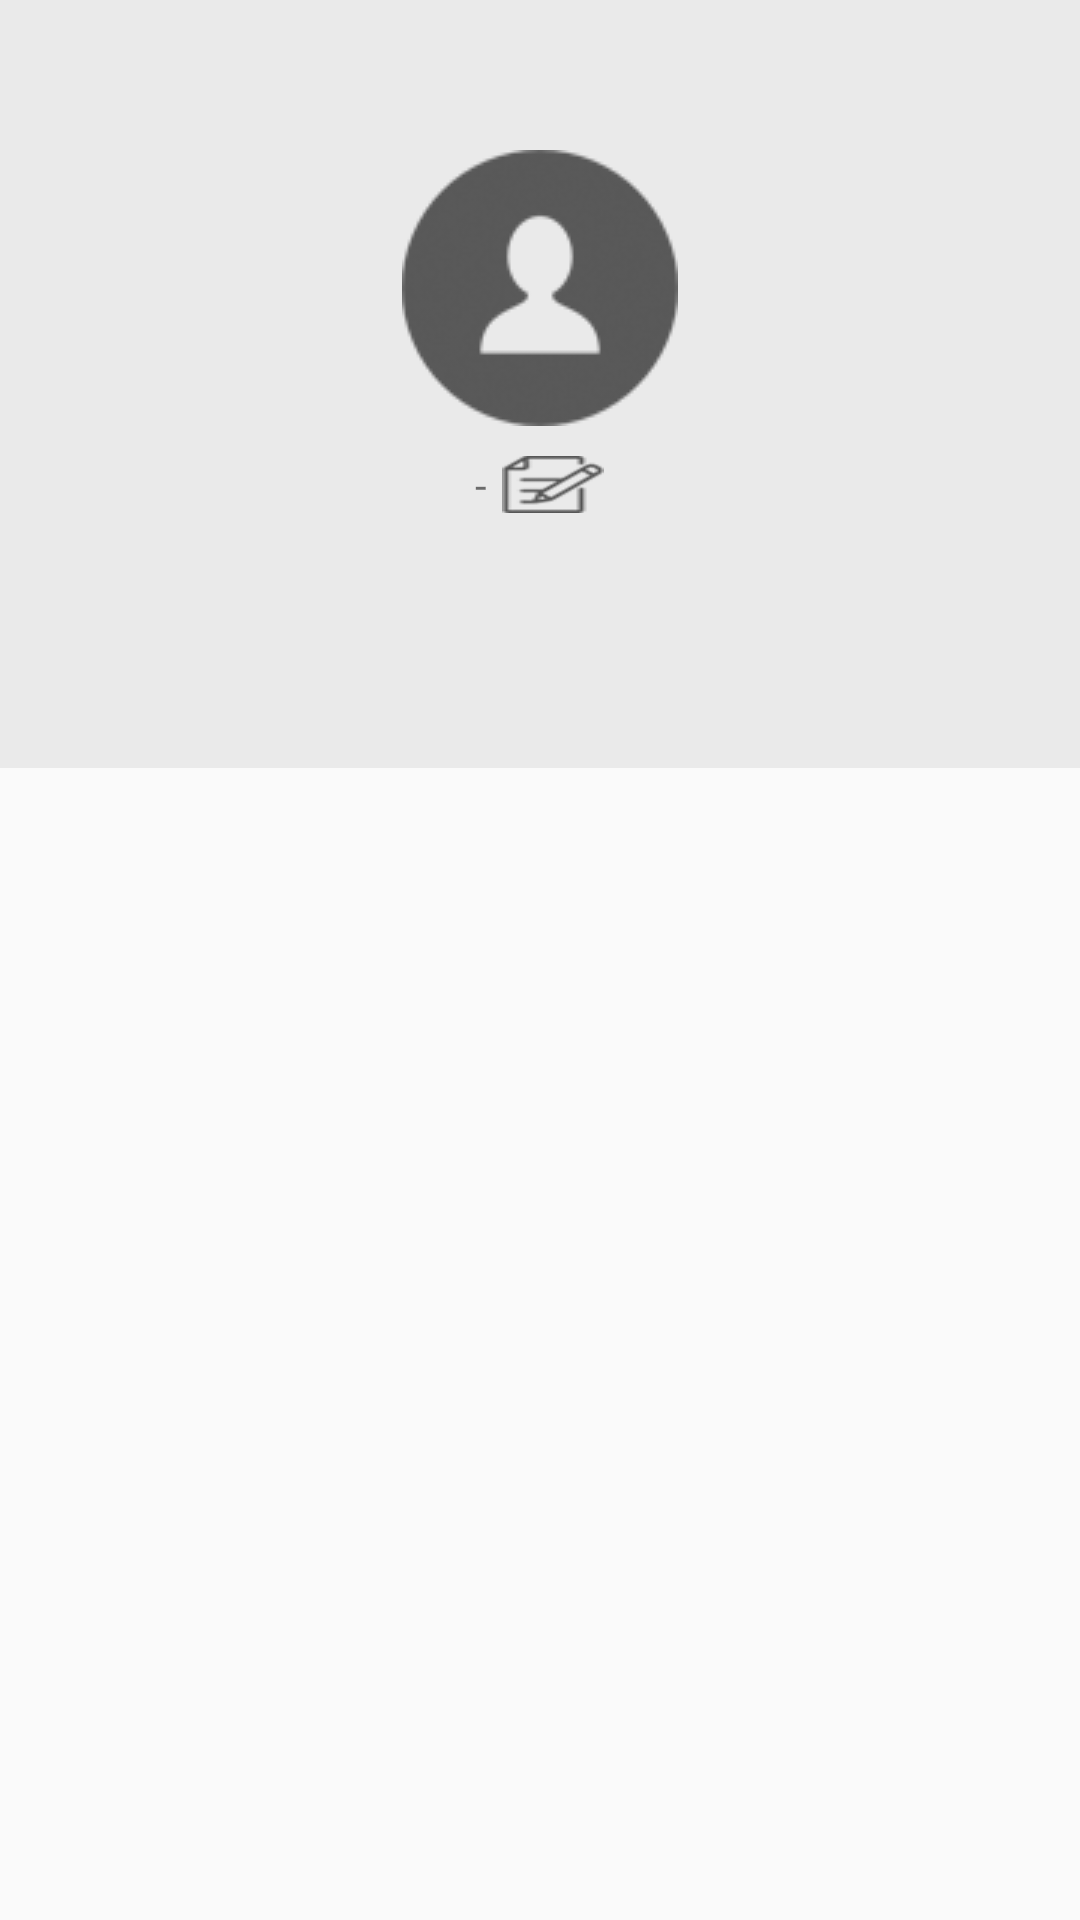

Screen size 1080×1920. Icon name, then its center in pixels as (x=x, y=y):
profile: (x=540, y=288)
